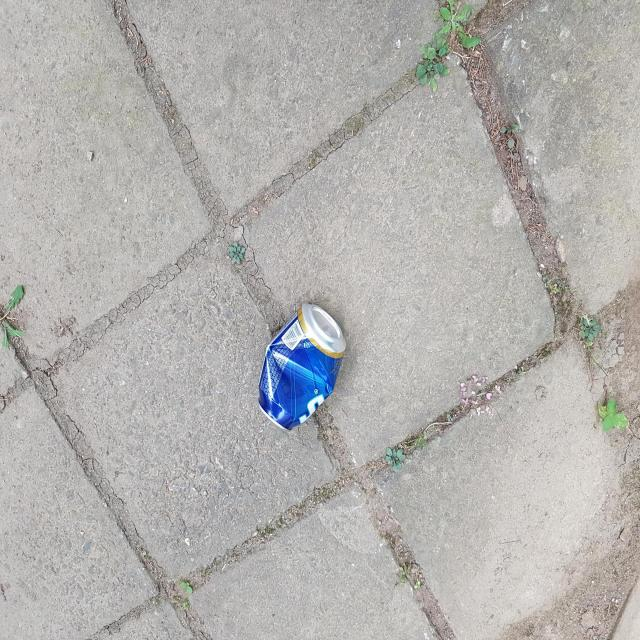can: (258, 304, 346, 429)
